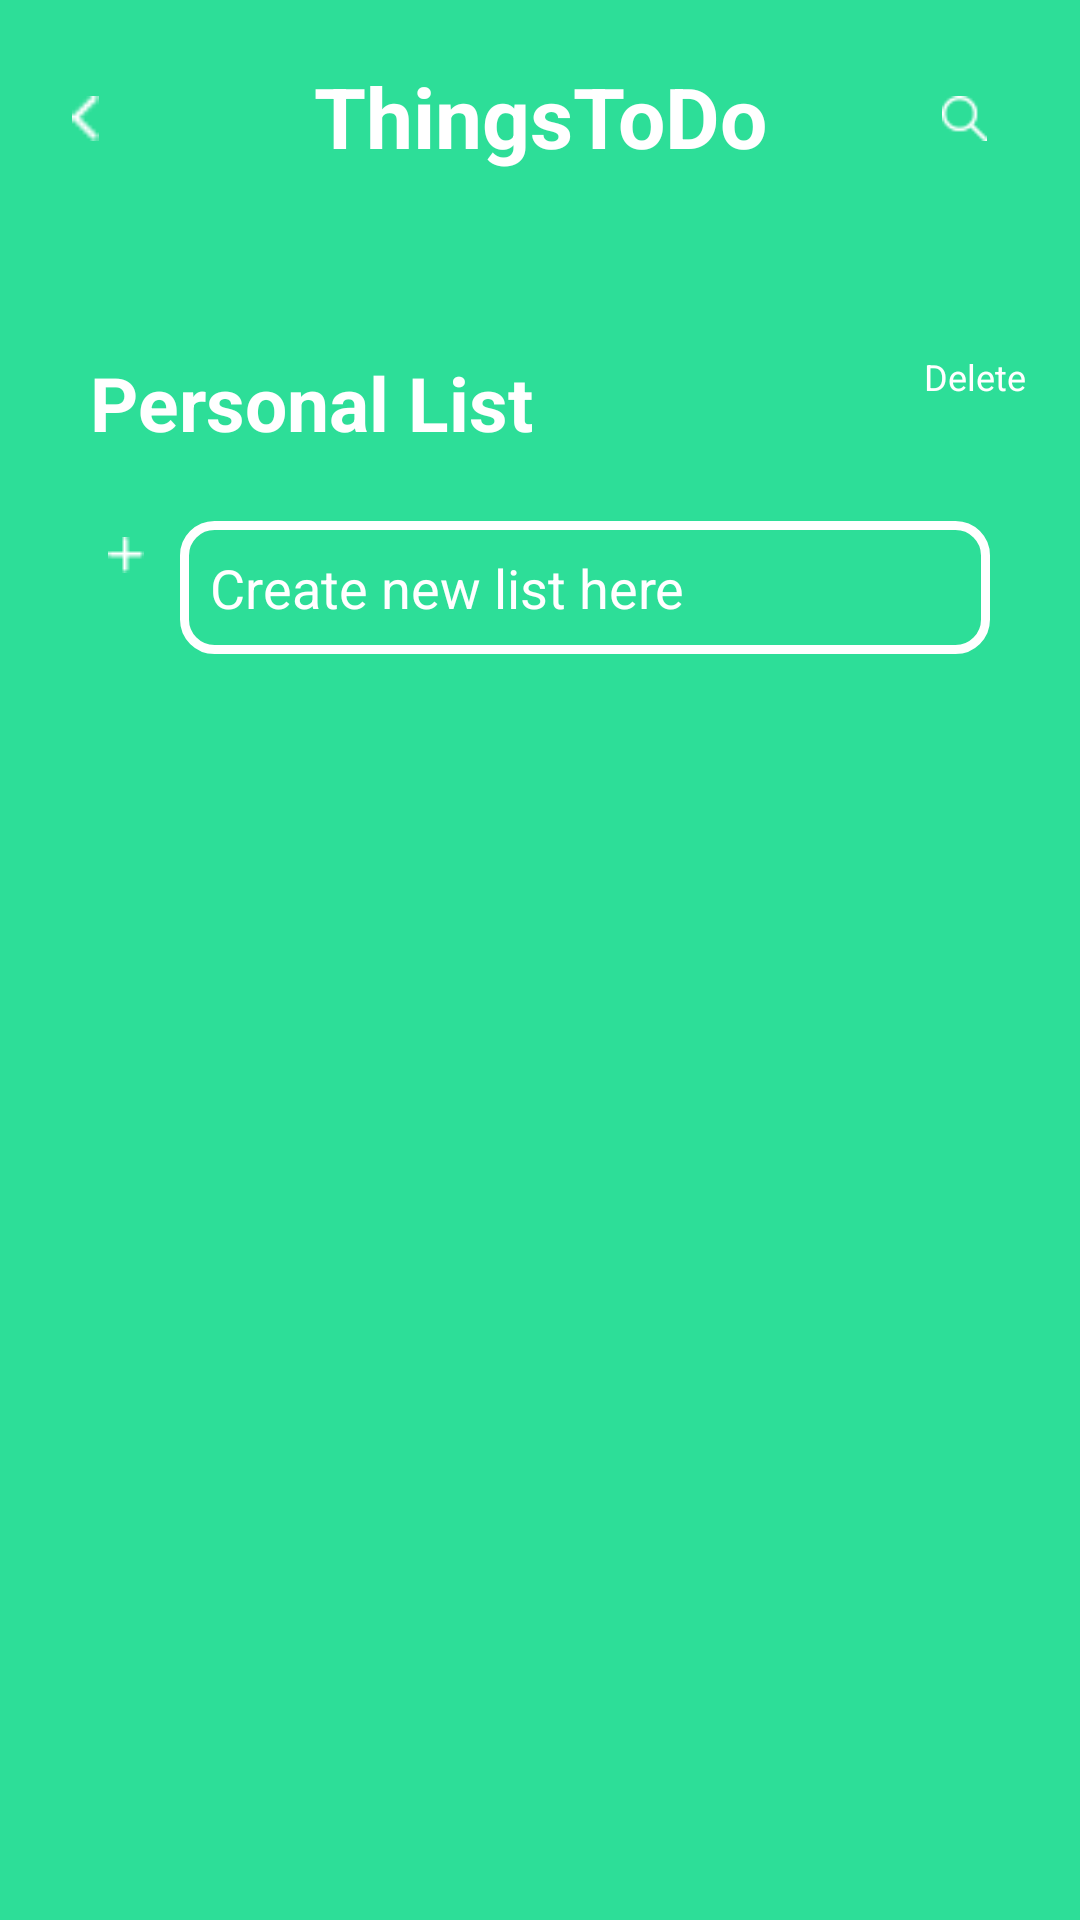

Screen size 1080w x 1920h. Icon name, then its center in pixels as [x,y]:
back: [85,118]
search: [964,118]
